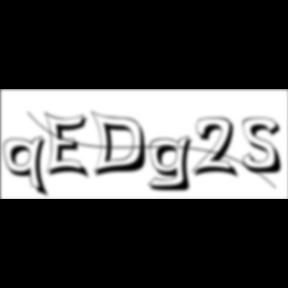2: (193, 117, 243, 181)
D: (90, 110, 154, 180)
E: (44, 110, 94, 182)
S: (242, 117, 288, 176)
g: (148, 134, 200, 194)
q: (3, 135, 53, 200)
